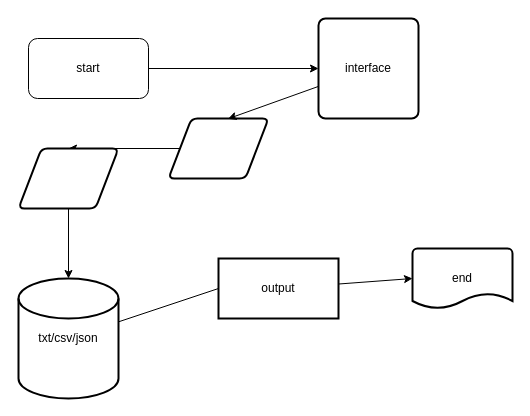
Image size: 530x416. Some labels were removed from this diagram. Here are the shapes that lost their labels. From the top down, the centre of each, then its label:
At point (218, 148): "input".
At point (68, 178): "controller".
